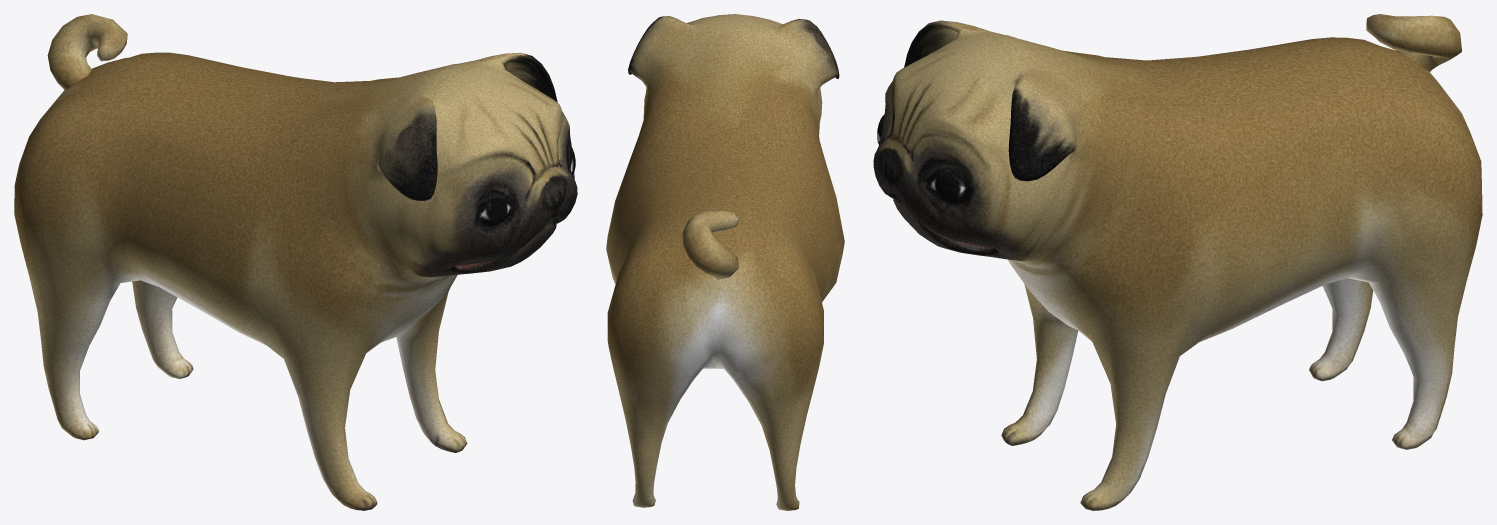
File: pug.dae
The picture shows the model from 3 angles, left to right: view 1: azimuth 30°, elevation 25°; view 2: azimuth 150°, elevation 25°; view 3: azimuth 270°, elevation 25°; orthographic projection. The views are drawn at different scales.
Visible parts, largest first — view 1: Pug; view 2: Pug; view 3: Pug.
Part boxes in pixels (left/top/right/bottom): Pug: left=14, top=14, right=577, bottom=510; Pug: left=606, top=14, right=844, bottom=510; Pug: left=873, top=14, right=1482, bottom=510.
Bounding box in the file's own units: 0.9069 × 0.9634 × 1.2.
1 material, 1 textured.
